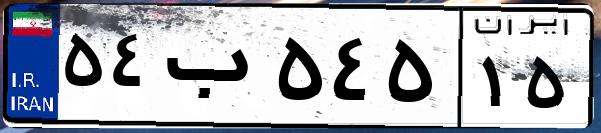1: (475, 38, 525, 113)
4: (330, 28, 385, 110), (110, 28, 158, 98)
5: (270, 28, 330, 110), (385, 28, 445, 110), (57, 26, 110, 100), (525, 38, 570, 115)
ب: (158, 20, 270, 120)
